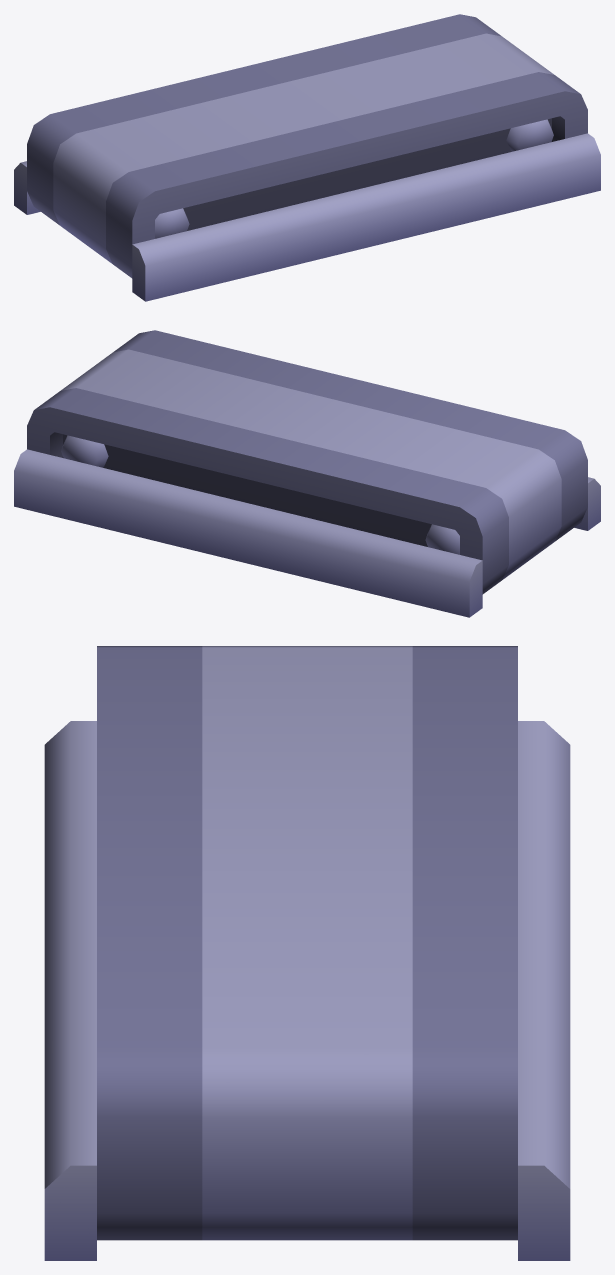
File: conveyor-long-stripe-sides.fbx
3 views of the same model, one above another, from view 1: azimuth 30°, elevation 25°; view 2: azimuth 150°, elevation 25°; view 3: azimuth 270°, elevation 25° (orthographic). The views are drawn at different scales.
Visible parts, largest first — view 1: conveyor-long-stripe-sides; view 2: conveyor-long-stripe-sides; view 3: conveyor-long-stripe-sides.
Boxes of the visible parts, bbox=[...] form: conveyor-long-stripe-sides: bbox=[14, 14, 600, 301]; conveyor-long-stripe-sides: bbox=[14, 330, 600, 617]; conveyor-long-stripe-sides: bbox=[44, 646, 570, 1260].
Size of the model in its own units: 200 by 40 by 100.
Materials: 1 (1 with a texture image).
